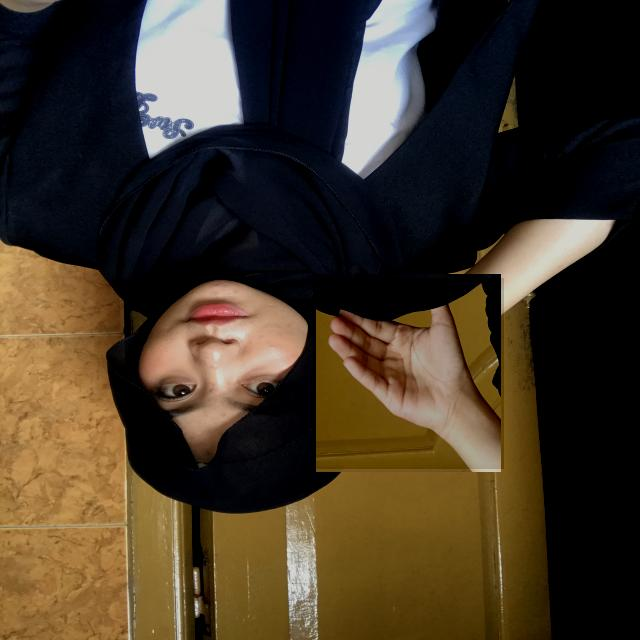mendengar: (313, 278, 504, 469)
